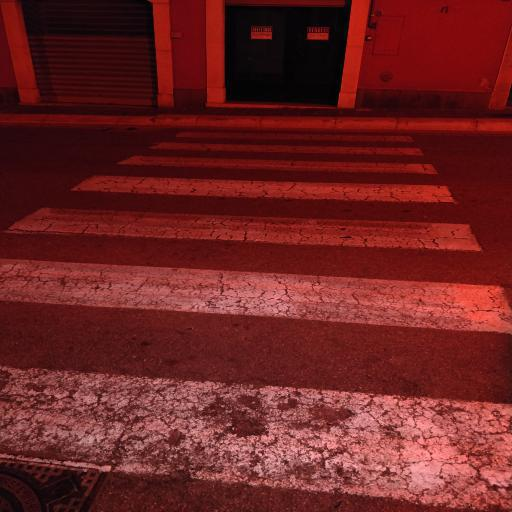crosswalk: (3, 254, 512, 511), (63, 153, 463, 208)
